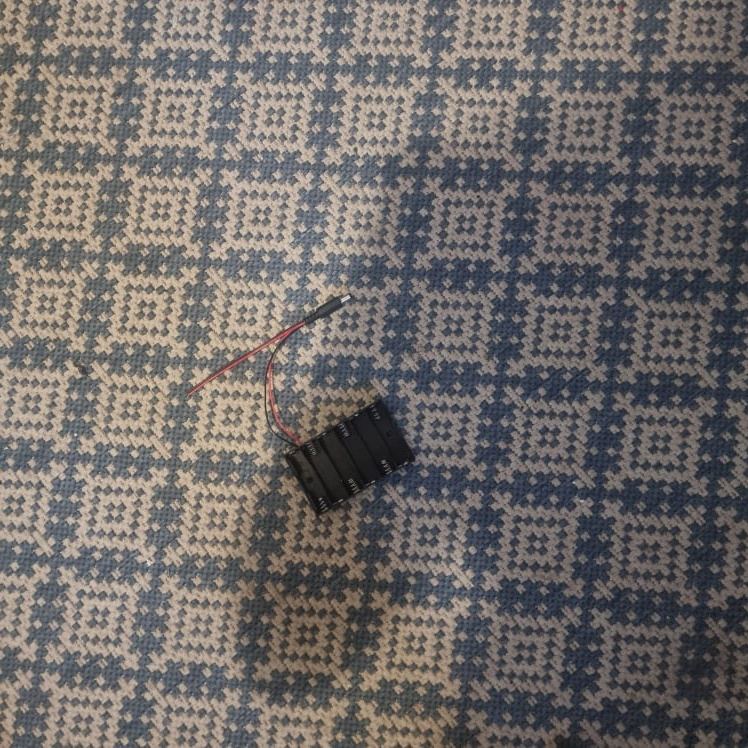BATTERY BOX: (284, 400, 417, 518)
